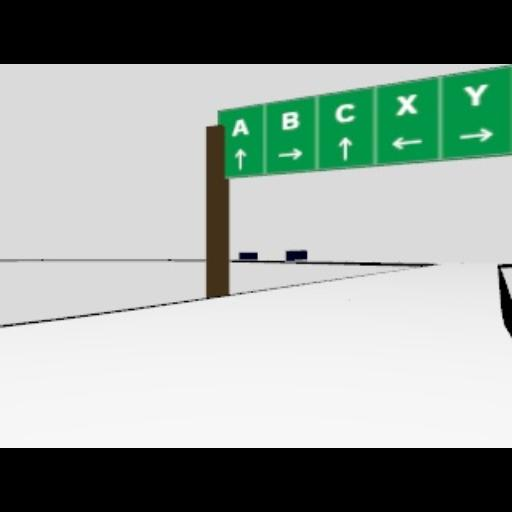A: (230, 118, 248, 136)
B: (280, 110, 300, 130)
C: (334, 102, 356, 124)
Left: (390, 136, 424, 148)
Right: (457, 128, 491, 142), (277, 148, 303, 160)
Straight: (338, 136, 352, 160), (234, 147, 246, 169)
X: (395, 92, 417, 114)
Y: (462, 83, 488, 105)
